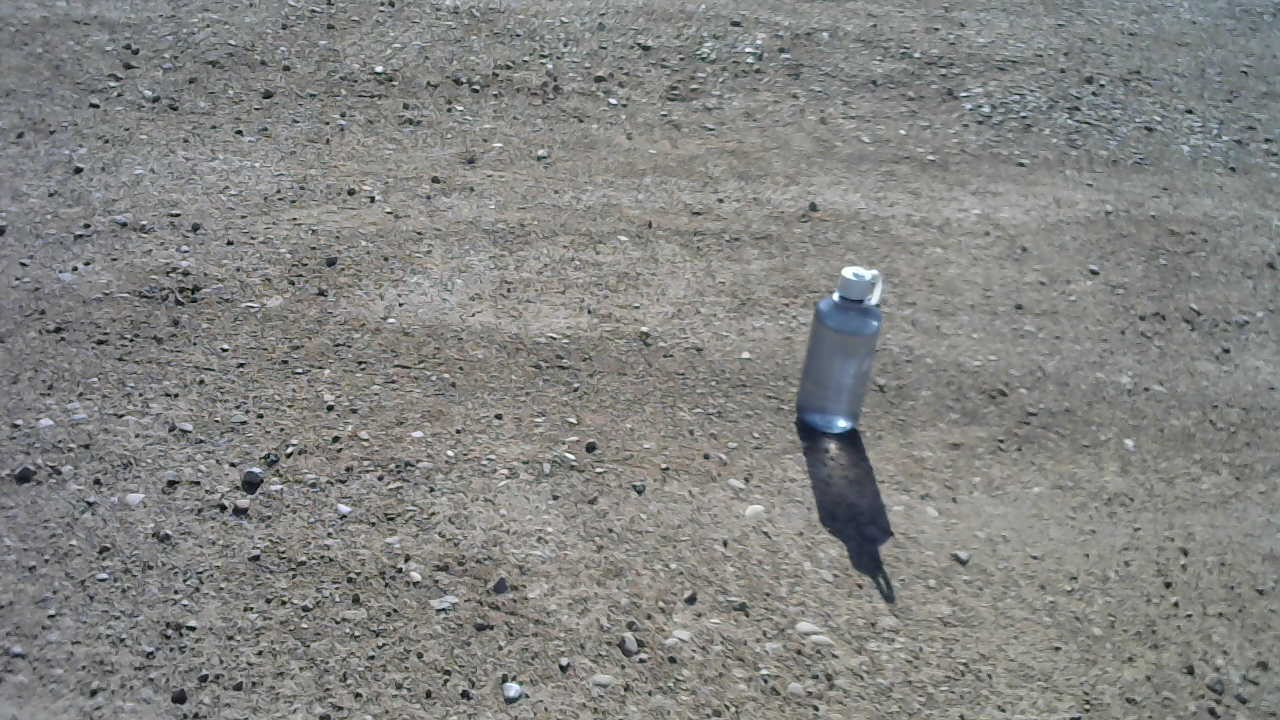bottle: (791, 261, 885, 437)
